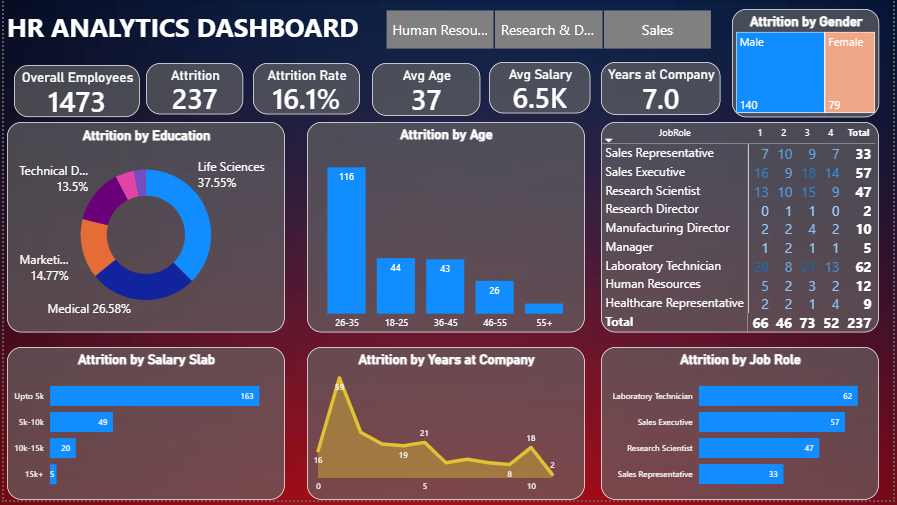

Layout of this report page (visuals, bound fields, positions):
{"tool":"powerbi","page":{"name":"Page 1","canvas":[1280,720],"ordinal":0},"visuals":[{"type":"cardVisual","title":"Attrition Rate","fields":{"Data":["HR_Analytics.Attrition_Rate"]},"box":[358.7,90.3,153.7,74.4],"z":0},{"type":"cardVisual","title":"Attrition","fields":{"Data":["Sum(HR_Analytics.Attrition_count)"]},"box":[205,90.3,140.3,74.4],"z":1000},{"type":"cardVisual","title":"Avg Salary","fields":{"Data":["Avg(HR_Analytics.MonthlyIncome)"]},"box":[698,89.1,146.4,74.4],"z":2000},{"type":"cardVisual","title":"Overall Employees","fields":{"Data":["CountNonNull(HR_Analytics.EmpID)"]},"box":[15,93.6,181.4,74.9],"z":3000},{"type":"cardVisual","title":"Avg Age","fields":{"Data":["Avg(HR_Analytics.Age)"]},"box":[529.6,90.3,156.2,75.7],"z":4000},{"type":"cardVisual","title":"Years at Company","fields":{"Data":["Avg(HR_Analytics.YearsAtCompany)"]},"box":[860.2,89.1,172,75.7],"z":5000},{"type":"donutChart","title":"Attrition by Education","fields":{"Y":["Sum(HR_Analytics.Attrition_count)"],"Category":["HR_Analytics.EducationField"]},"box":[4.9,175.7,400,303],"z":6000},{"type":"columnChart","title":"Attrition by Age","fields":{"Category":["HR_Analytics.AgeGroup"],"Y":["Sum(HR_Analytics.Attrition_count)"]},"box":[435.6,175.7,400,303],"z":7000},{"type":"pivotTable","fields":{"Rows":["HR_Analytics.JobRole"],"Columns":["HR_Analytics.JobSatisfaction"],"Values":["Sum(HR_Analytics.Attrition_count)"]},"box":[860.2,175.7,400.2,303],"z":8000},{"type":"barChart","title":"Attrition by Salary Slab","fields":{"Category":["HR_Analytics.SalarySlab"],"Y":["Sum(HR_Analytics.Attrition_count)"]},"box":[5,500,400,220],"z":9000},{"type":"barChart","title":"Attrition by Job Role","fields":{"Category":["HR_Analytics.JobRole"],"Y":["Sum(HR_Analytics.Attrition_count)"]},"box":[860.2,500.3,400.2,219.6],"z":10000},{"type":"areaChart","title":"Attrition by Years at Company","fields":{"Category":["HR_Analytics.YearsAtCompany"],"Y":["Sum(HR_Analytics.Attrition_count)"]},"box":[435.6,500.3,400,219.6],"z":11000},{"type":"treemap","title":"Attrition by Gender","fields":{"Group":["HR_Analytics.Gender"],"Values":["Sum(HR_Analytics.Attrition_count)"]},"box":[1048.3,13,211.7,155.5],"z":12000},{"type":"slicer","fields":{"Values":["HR_Analytics.Department"]},"box":[529.4,13.2,507.4,58.8],"z":13000},{"type":"textbox","box":[4.4,13.2,525,58.8],"z":14000}]}

Visuals, with their boxes in screenshot pixels (x1, y1, x2, y2), scaled from the page's 1280x720 canvas onto the 897x505 screenshot:
"Attrition Rate" cardVisual: [x1=251, y1=63, x2=359, y2=116]
"Attrition" cardVisual: [x1=144, y1=63, x2=242, y2=116]
"Avg Salary" cardVisual: [x1=489, y1=62, x2=592, y2=115]
"Overall Employees" cardVisual: [x1=11, y1=66, x2=138, y2=118]
"Avg Age" cardVisual: [x1=371, y1=63, x2=481, y2=116]
"Years at Company" cardVisual: [x1=603, y1=62, x2=723, y2=116]
"Attrition by Education" donutChart: [x1=3, y1=123, x2=284, y2=336]
"Attrition by Age" columnChart: [x1=305, y1=123, x2=586, y2=336]
pivotTable - HR_Analytics.JobRole x HR_Analytics.JobSatisfaction: [x1=603, y1=123, x2=883, y2=336]
"Attrition by Salary Slab" barChart: [x1=4, y1=351, x2=284, y2=504]
"Attrition by Job Role" barChart: [x1=603, y1=351, x2=883, y2=504]
"Attrition by Years at Company" areaChart: [x1=305, y1=351, x2=586, y2=504]
"Attrition by Gender" treemap: [x1=735, y1=9, x2=883, y2=118]
slicer - HR_Analytics.Department: [x1=371, y1=9, x2=727, y2=50]
textbox: [x1=3, y1=9, x2=371, y2=50]
